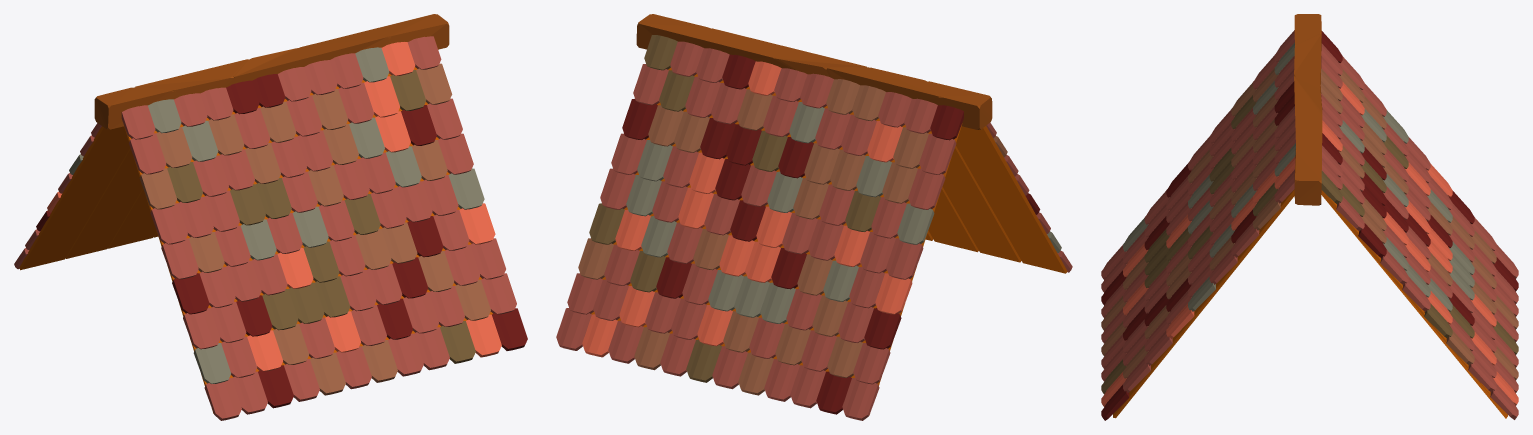
Rendered from NormalRoof.fbx.
3 views of the same model, side by side, from view 1: azimuth 30°, elevation 25°; view 2: azimuth 150°, elevation 25°; view 3: azimuth 270°, elevation 25° (orthographic).
Parts seen in each view (by area): view 1: NormalRoof_LOD0; view 2: NormalRoof_LOD0; view 3: NormalRoof_LOD0.
Boxes of the visible parts, x1=… form: NormalRoof_LOD0: x1=14, y1=14, x2=527, y2=420; NormalRoof_LOD0: x1=556, y1=14, x2=1072, y2=420; NormalRoof_LOD0: x1=1101, y1=14, x2=1518, y2=420.
Size of what is drawn, in the model's own units: 1410 by 2019 by 2127.
